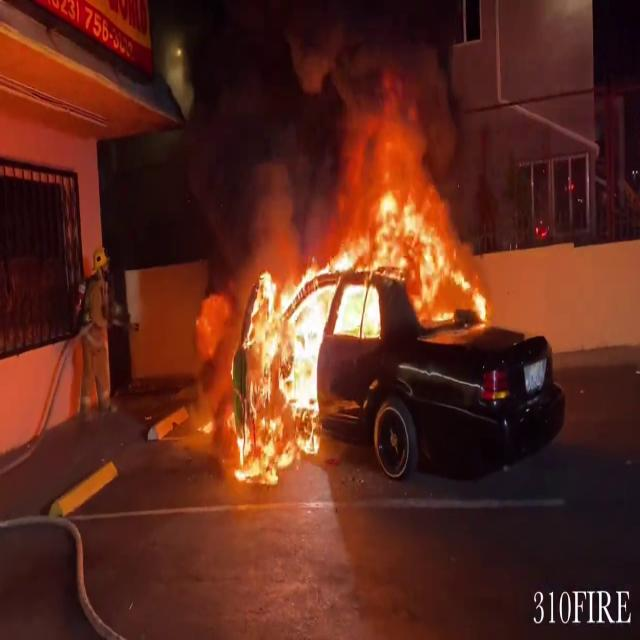Fire: (225, 140, 496, 470)
Smoke: (241, 0, 463, 228)
